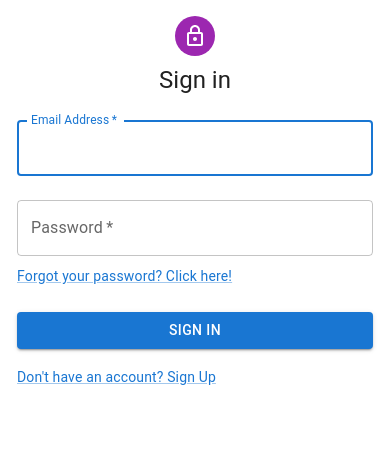
Test: Login Page › shows error message for short password
Type "test@example.com" into the field labelled "Email Address *" at (195, 148), box [17, 120, 373, 176]
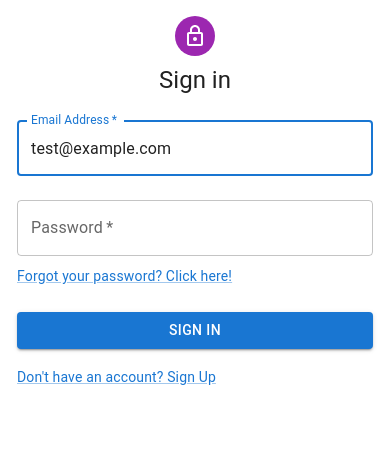
Type "short" into the password field labelled "Password *" at (195, 228), box [17, 200, 373, 256]
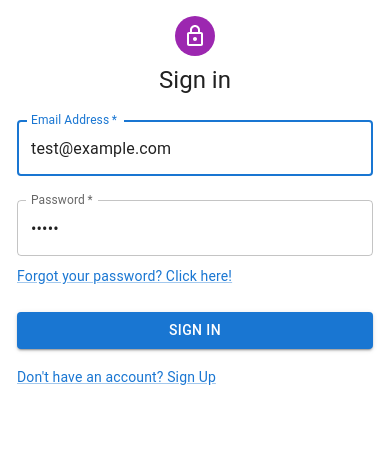
Click the button with test id "login-button" at (195, 330), box [17, 312, 373, 348]
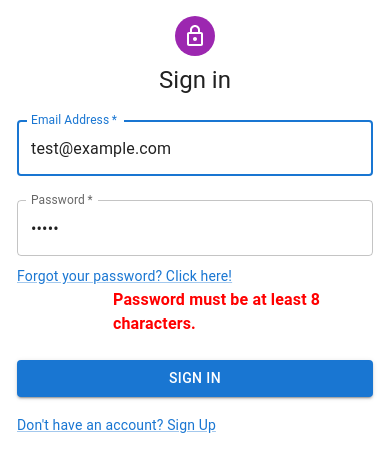
Check: the text "Password must be at least 8 characters." is shown, box [113, 290, 320, 333]
